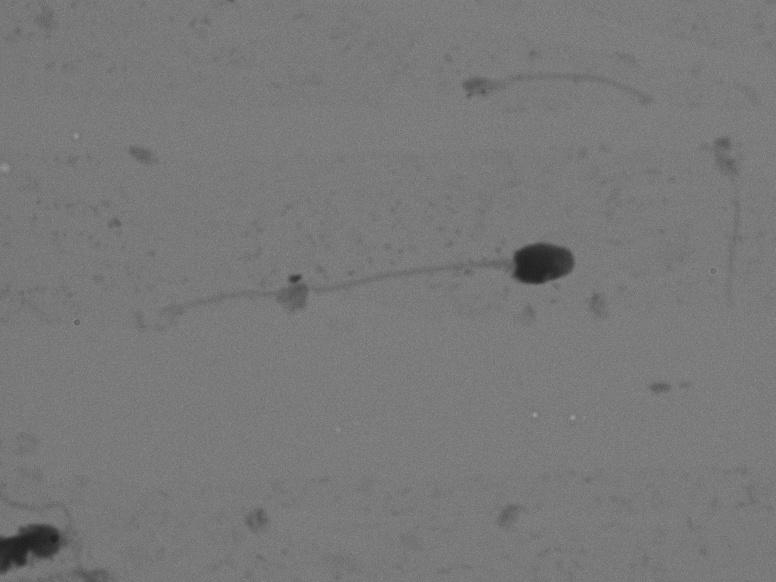Abnormal: (129, 187, 602, 359)
